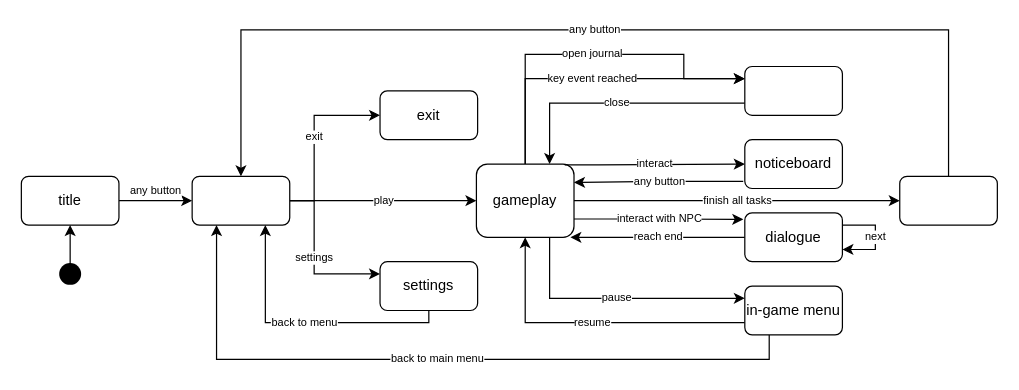
Image size: 1019x390. Some labels were removed from this diagram. Each missing label, with the centre of its shape:
end: pixel 948 200
journal: pixel 793 90
main menu: pixel 240 200
